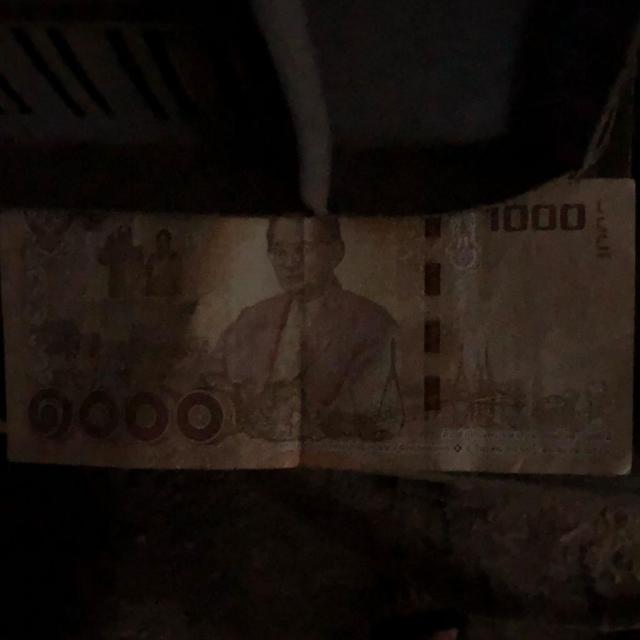THAI1000: (0, 178, 635, 476)
